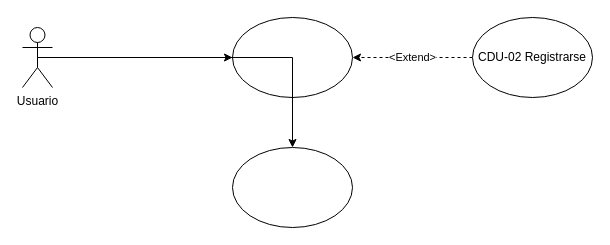
Image size: 610x245. Some labels were removed from this diagram. The centre of each missing label's shape, as x and y in pixels:
"CDU-01 Login" belongs at point (292, 57).
"CDU-03 Log Out" belongs at point (292, 187).
